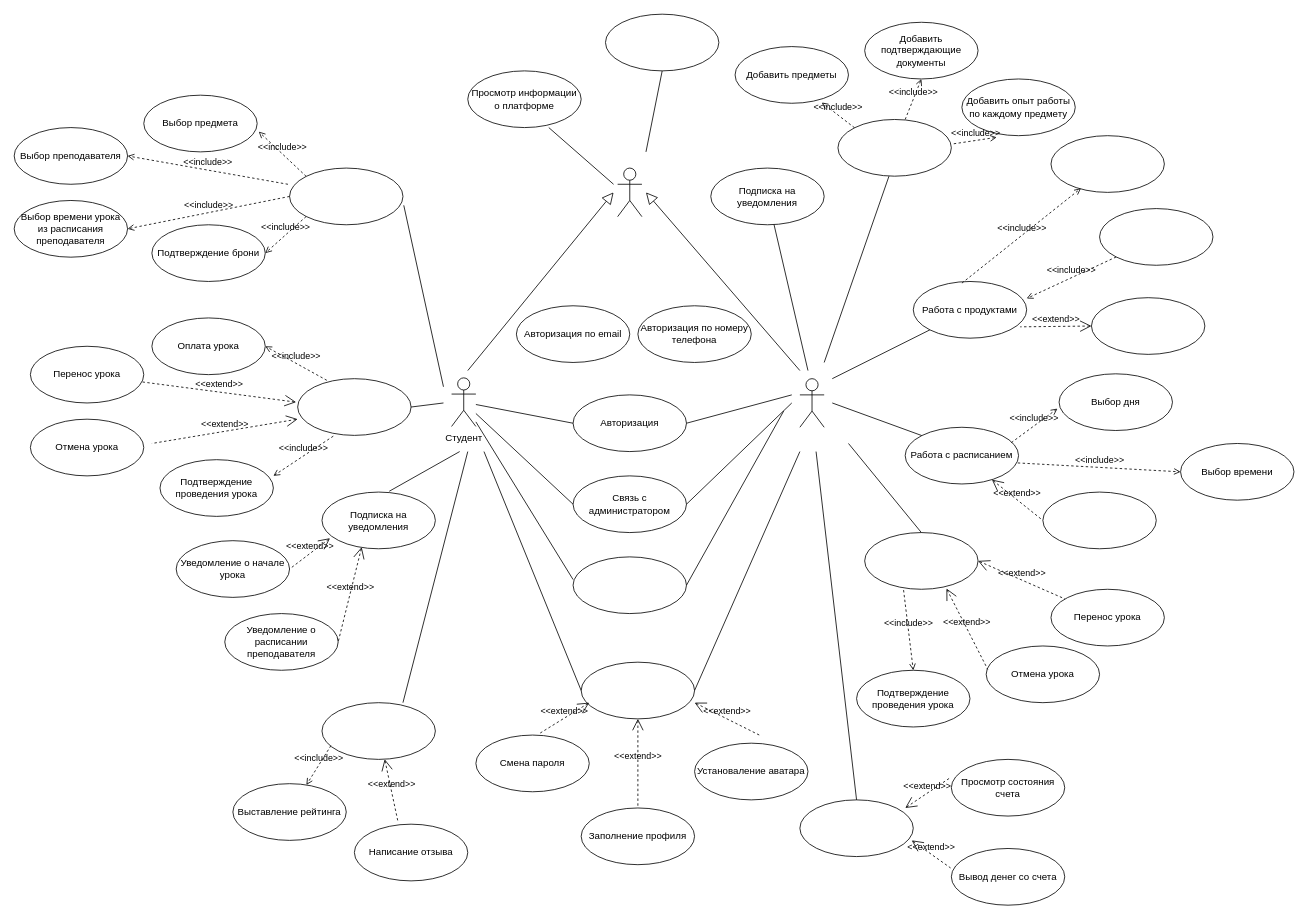
Some shapes in this 1308 by 919 pixel diagram are drawn without their labels. The centre of each missing label's shape, as x and y in pixels:
CRUD-операции с продуктом: the point at 1107,163
Бронирование урока: the point at 346,196
Видео-конфренция: the point at 629,585
Посетитель: the point at 629,192
Преподаватель: the point at 811,402
Работа с профилем: the point at 637,690
Работа с профилем преподавателя: the point at 894,147
Работа с рейтингом преподавателя: the point at 378,730
Работа с уроком: the point at 921,560
Работа со счетом: the point at 856,828
Регистрация: the point at 662,42
Удаление расписания: the point at 1099,520
Управление уроками: the point at 354,406
Установление срока действия цены: the point at 1148,325
Установление цены на продукт: the point at 1156,236
